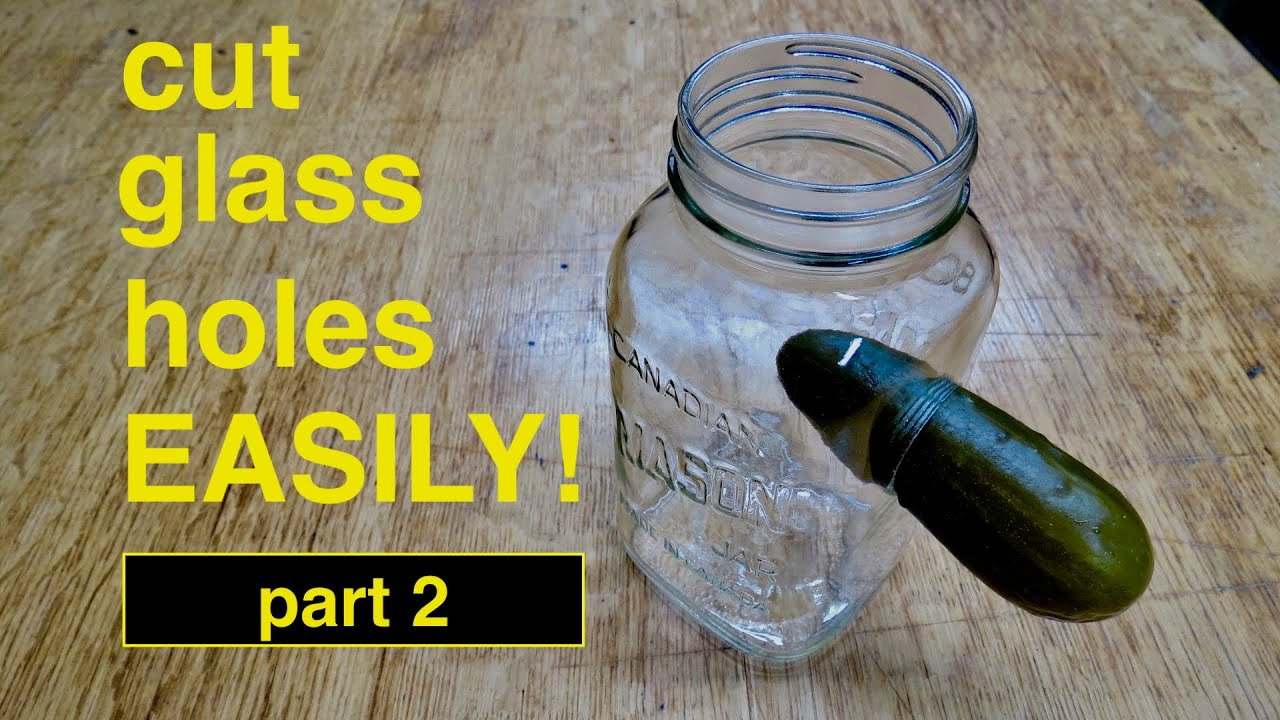glass_bottle: (604, 26, 1006, 693)
